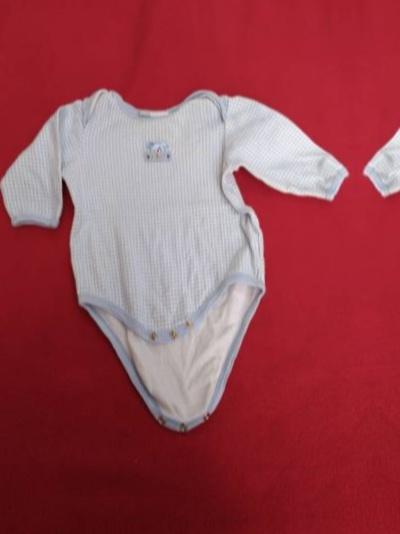Body: (0, 36, 369, 458), (353, 11, 400, 432)
